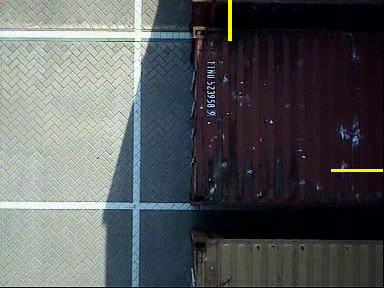groundmarker_2: (106, 181, 160, 211), (109, 28, 162, 58)
